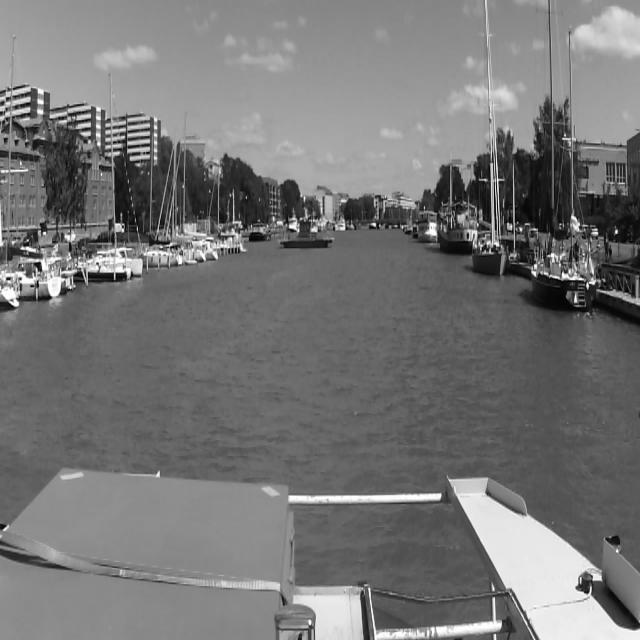ship: (530, 0, 600, 313), (0, 33, 56, 309), (79, 68, 143, 280), (472, 0, 508, 276), (182, 112, 218, 260), (146, 137, 182, 268), (279, 218, 334, 250), (296, 214, 326, 244), (417, 206, 437, 243), (250, 224, 270, 242)
